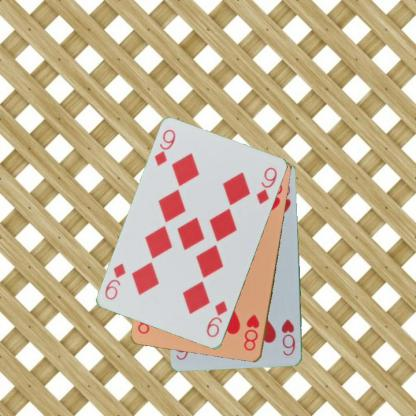6h: (279, 317, 296, 357)
8h: (242, 312, 260, 352)
9d: (203, 298, 229, 339), (151, 127, 177, 168)
